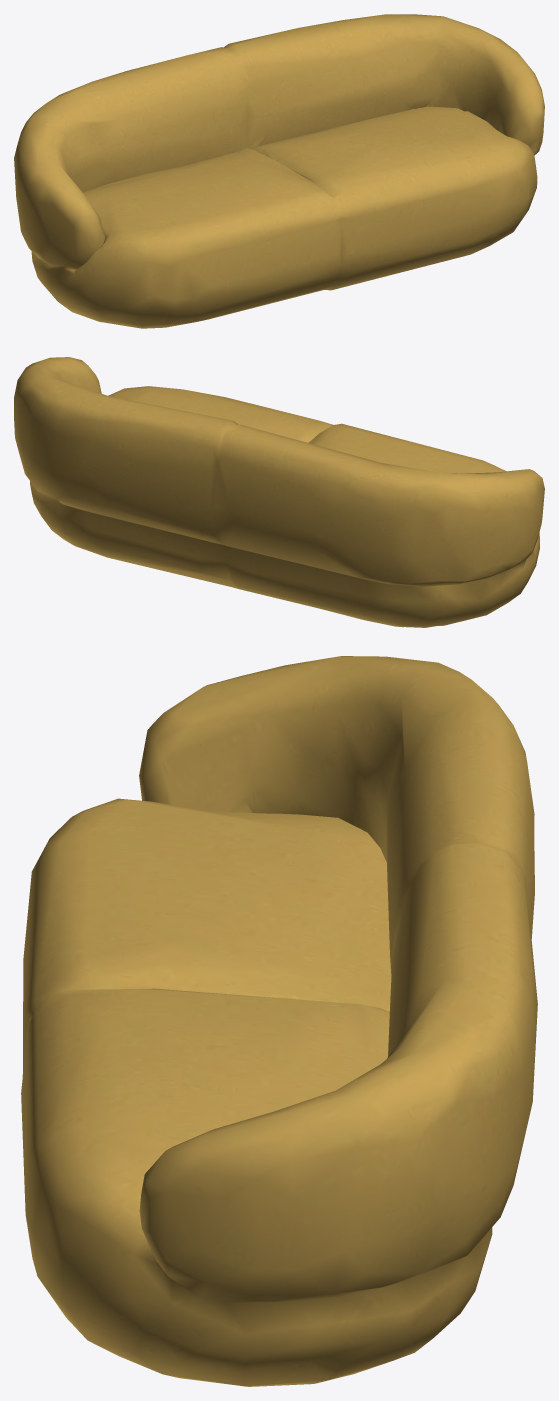
File: 13 - LILLESÄTER - 三人座沙發，Gunnared 亮綠黃色 IKEA 線上購物.glb
The picture shows the model from 3 angles, top to bottom: view 1: azimuth 30°, elevation 25°; view 2: azimuth 150°, elevation 25°; view 3: azimuth 270°, elevation 25°; orthographic projection. The views are drawn at different scales.
Visible parts, largest first — view 1: ASY_ART_30618492_S01_NV01; view 2: ASY_ART_30618492_S01_NV01; view 3: ASY_ART_30618492_S01_NV01.
Boxes of the visible parts, left/top/right/bottom form: ASY_ART_30618492_S01_NV01: left=14, top=14, right=544, bottom=328; ASY_ART_30618492_S01_NV01: left=14, top=357, right=544, bottom=627; ASY_ART_30618492_S01_NV01: left=21, top=656, right=537, bottom=1386.
Size of the model in its own units: 2.02 by 0.6967 by 0.9028.
1 material, 1 textured.
